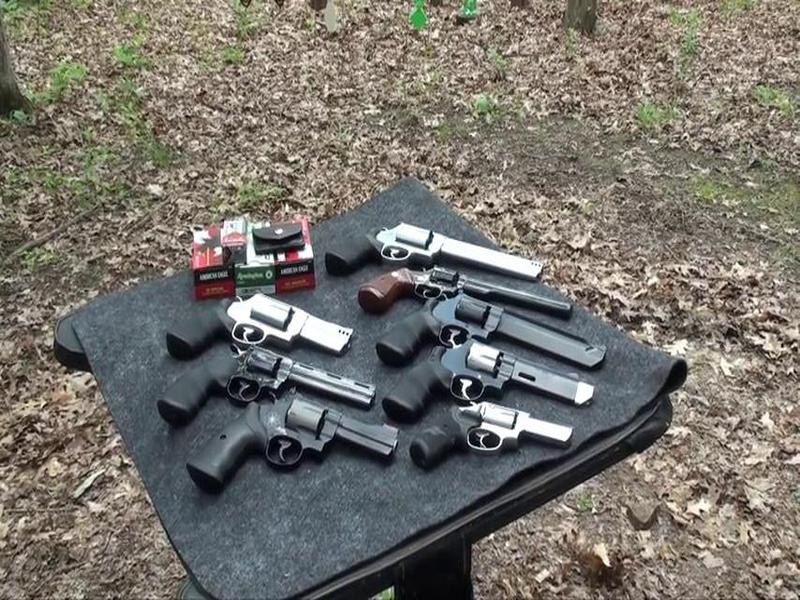Revolver: (162, 278, 374, 372)
